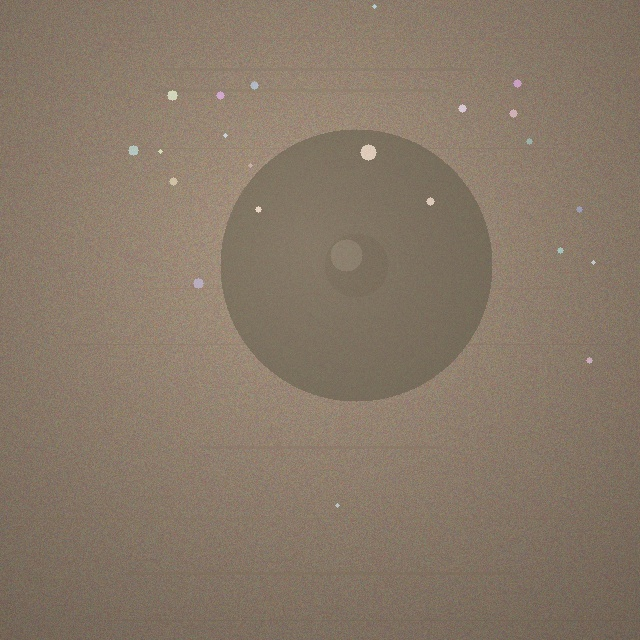overburn: (220, 129, 492, 401)
